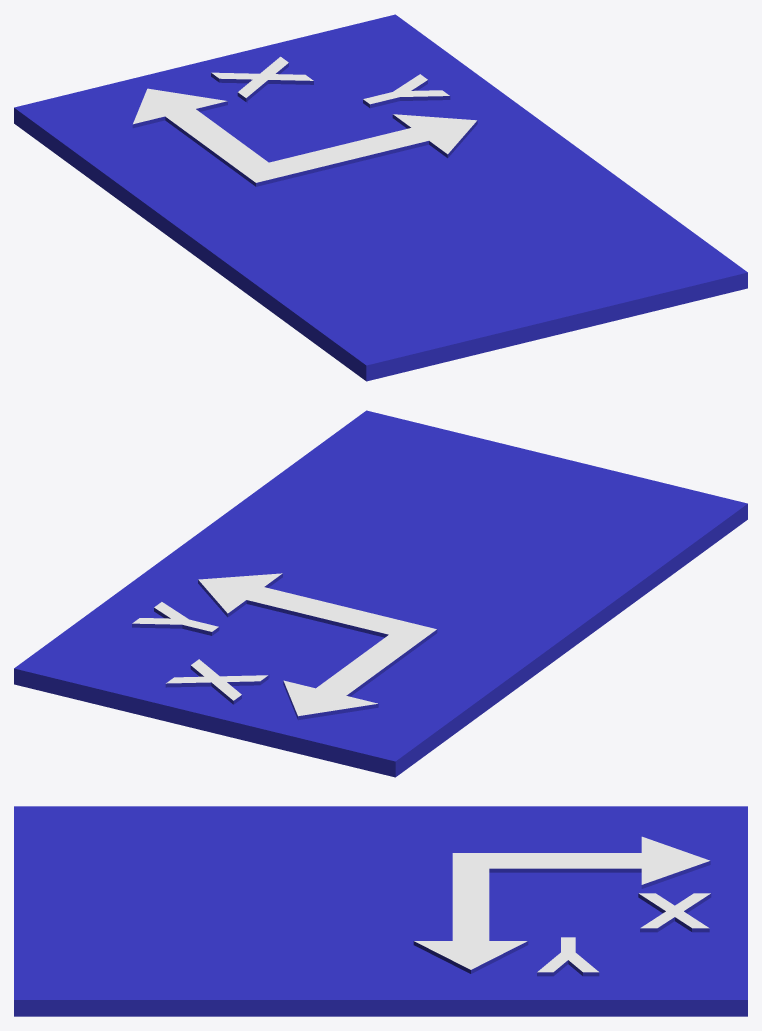
File: model_ak8975c-ChYe28VT.glb
The picture shows the model from 3 angles, top to bottom: view 1: azimuth 30°, elevation 25°; view 2: azimuth 150°, elevation 25°; view 3: azimuth 270°, elevation 25°; orthographic projection. The views are drawn at different scales.
Bounding box in the file's own units: 10 × 1.3 × 16.
